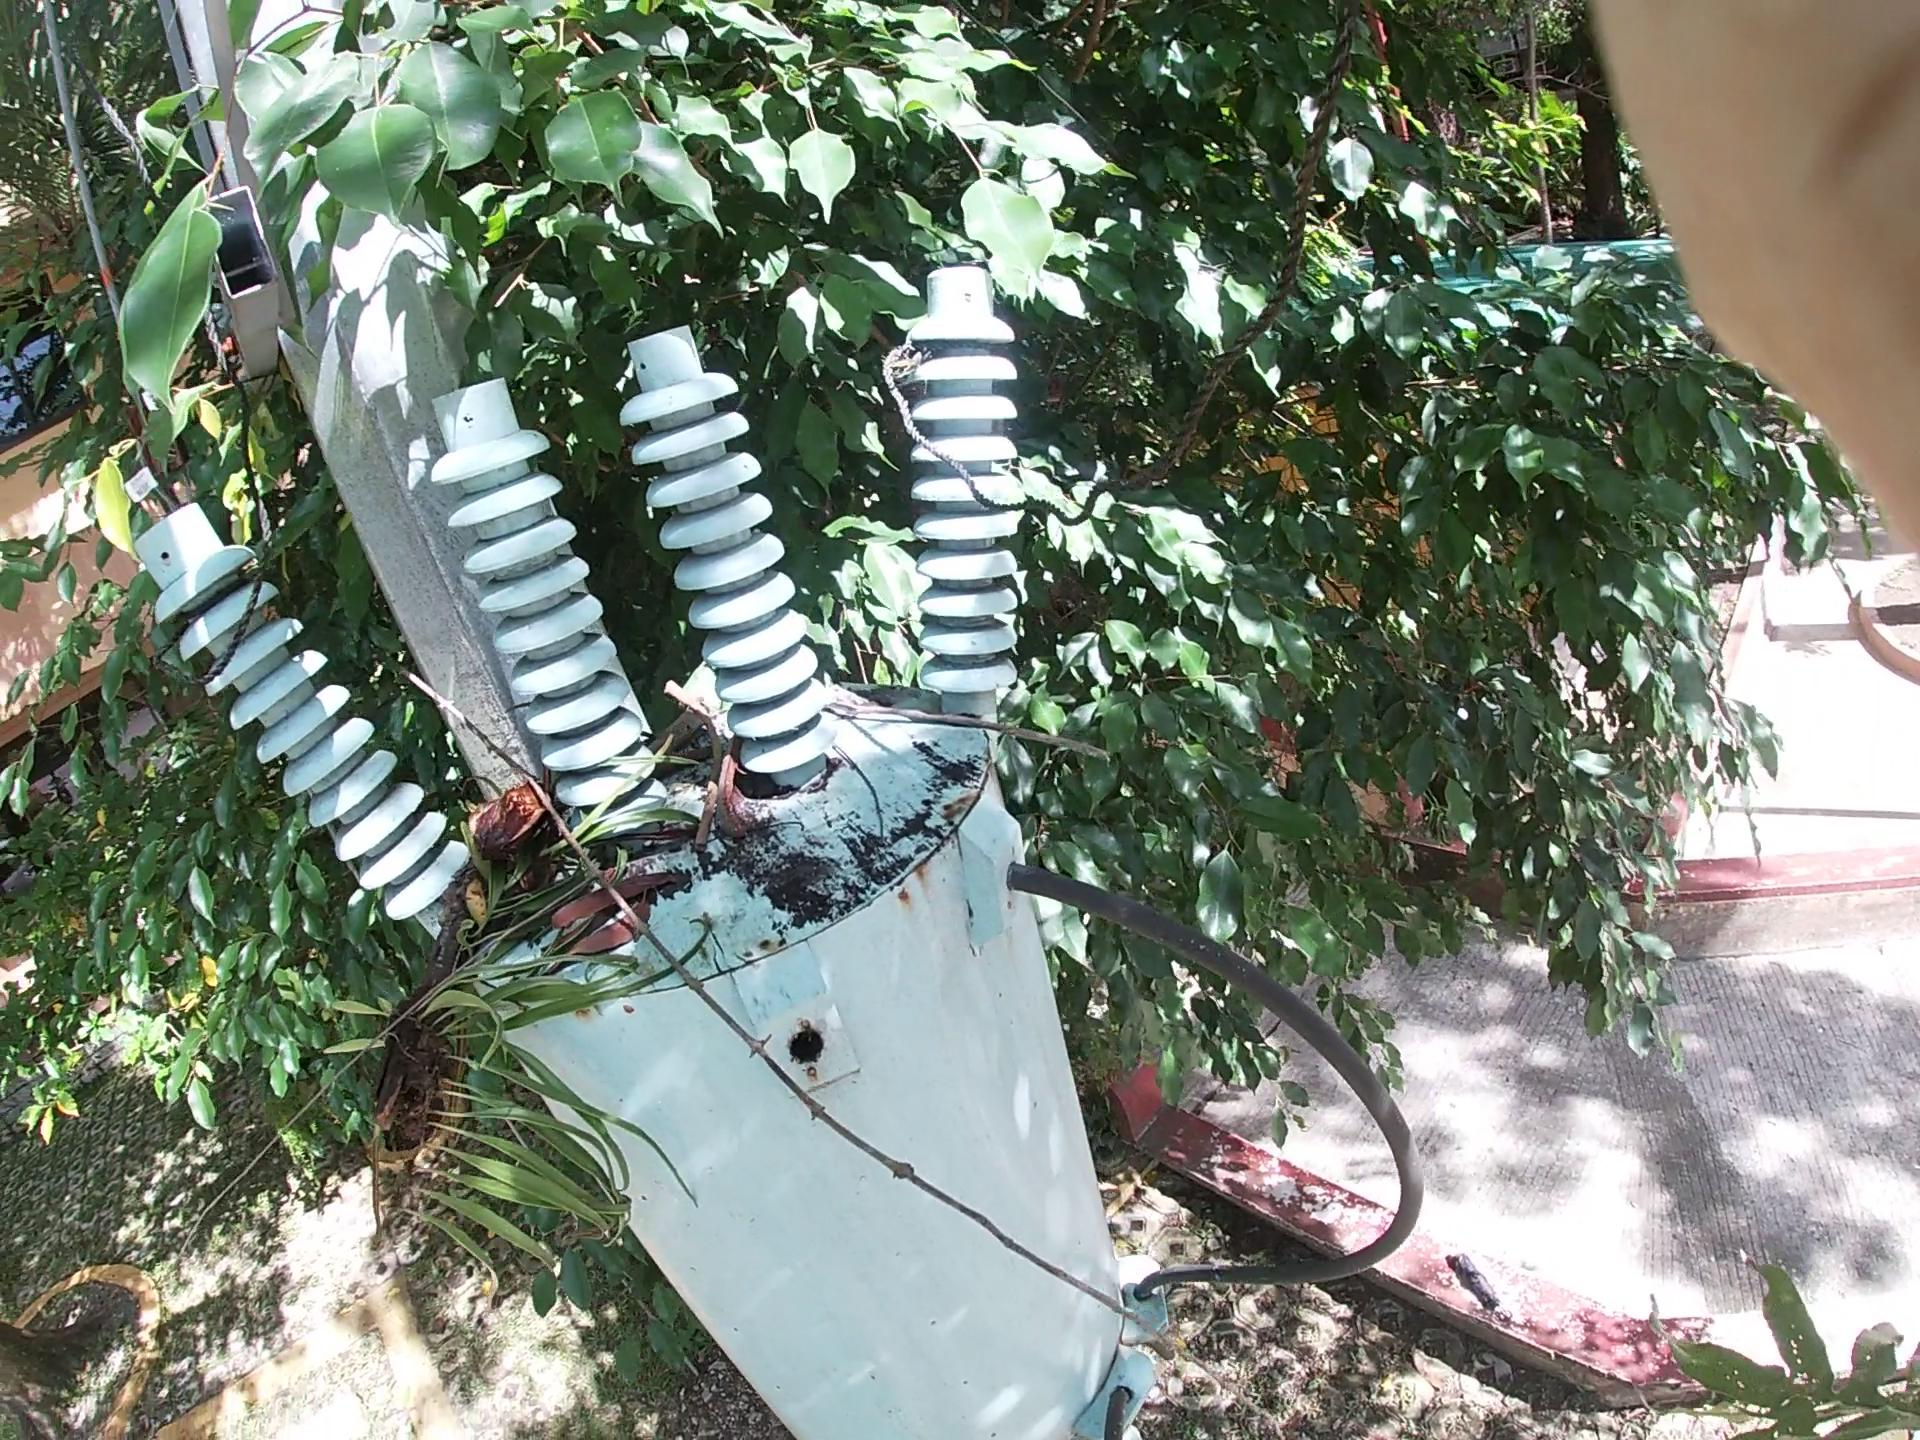branch with leaves: (293, 768, 683, 1212)
leaf: (534, 870, 721, 995)
mahogany fruit: (463, 759, 594, 889), (701, 731, 822, 858)
tree branch: (414, 675, 1214, 1327), (782, 659, 1179, 787), (661, 675, 788, 906)
